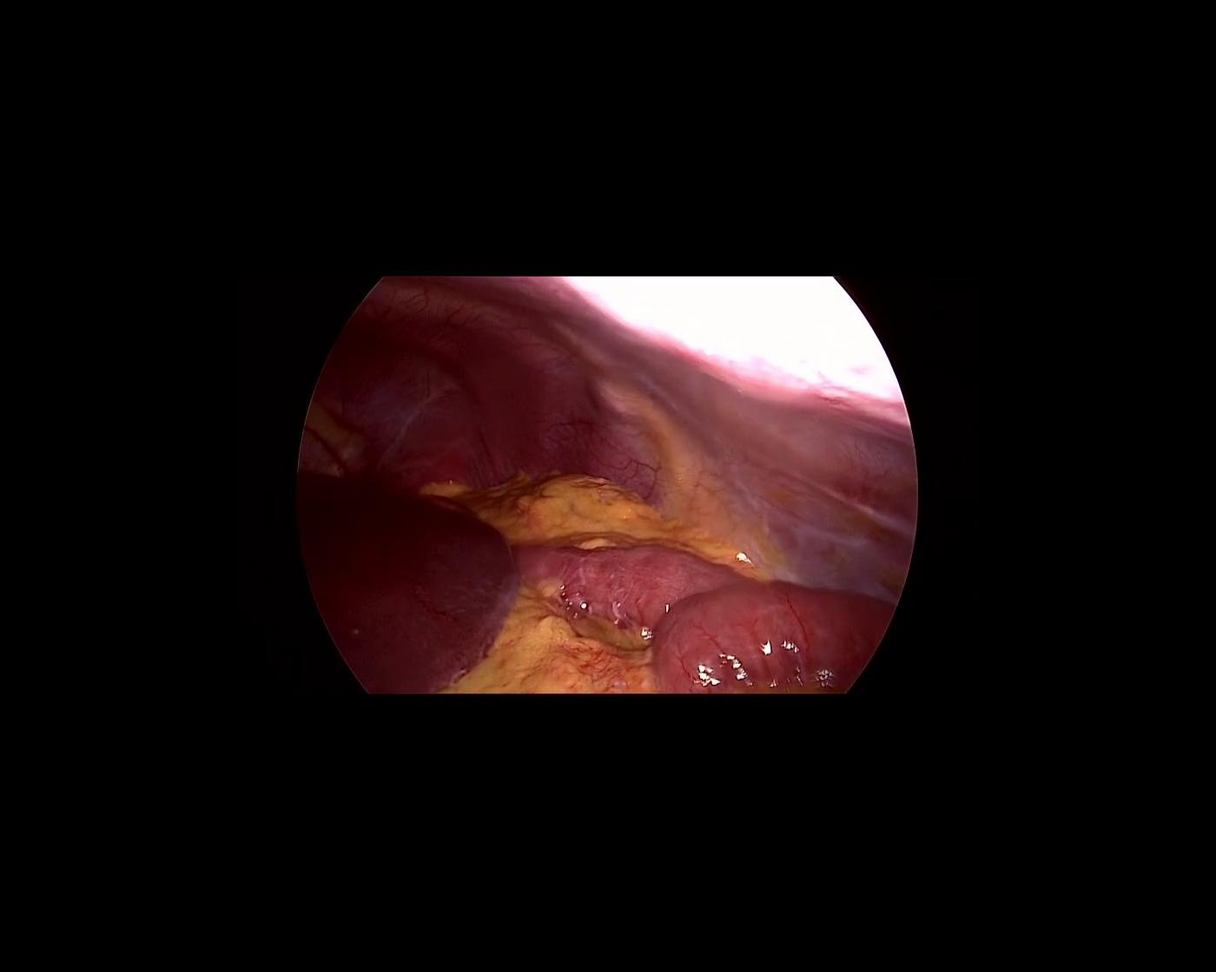Liver: (297, 477, 513, 694)
